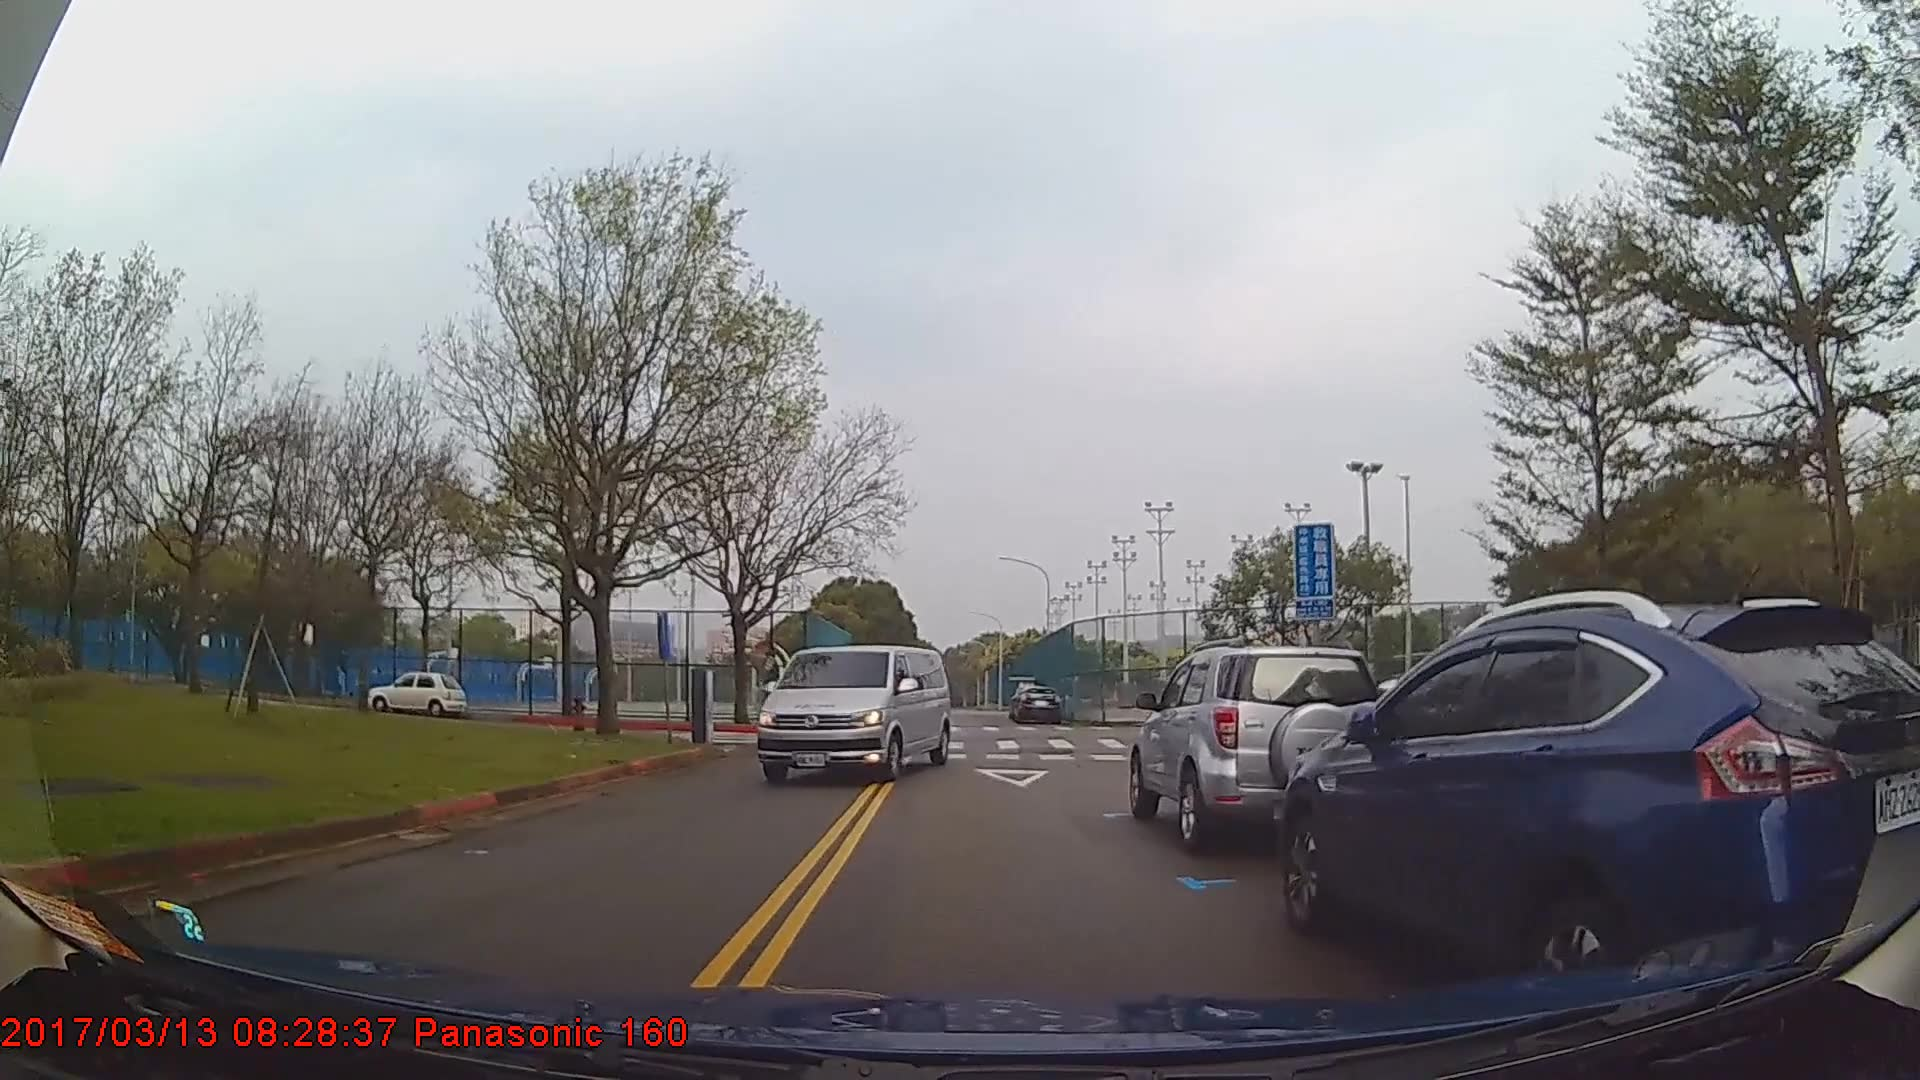vehicle: (1280, 597, 1920, 1011), (1127, 644, 1393, 856), (752, 644, 949, 785), (369, 669, 467, 716), (1013, 684, 1060, 727)
